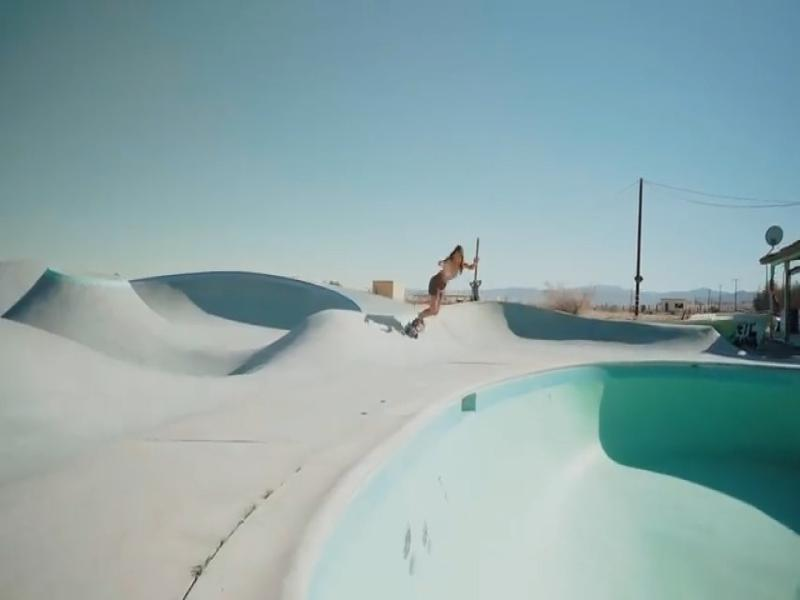person: (416, 246, 478, 322)
skate: (405, 315, 425, 337)
